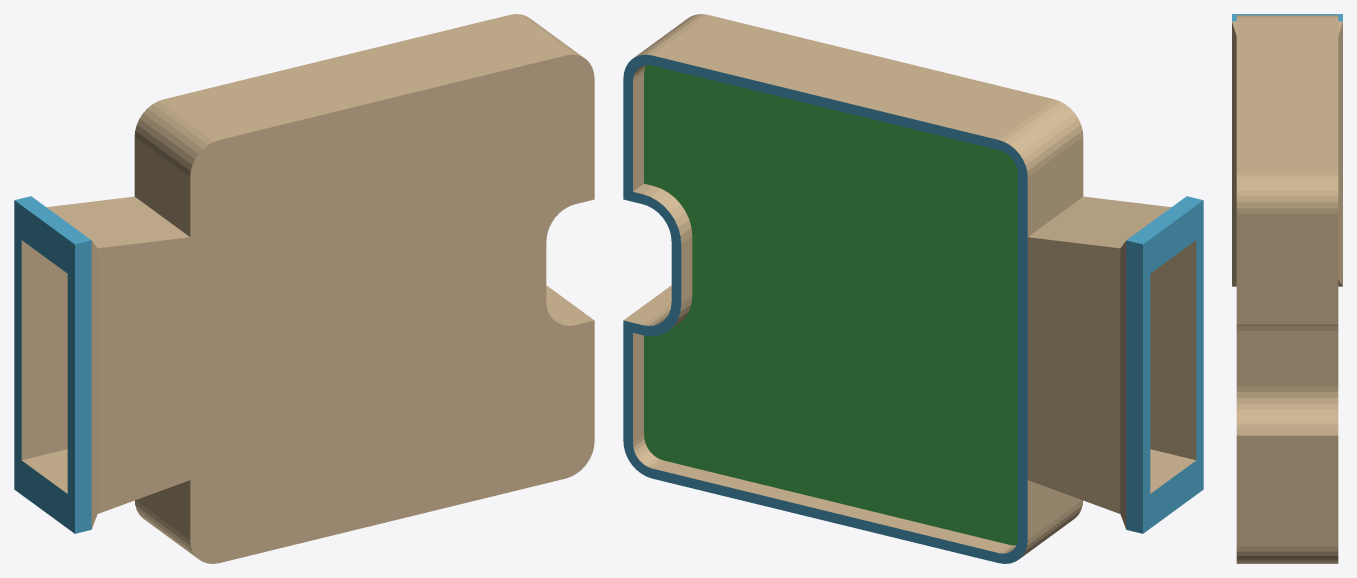
File: dispenser-FBX.fbx
3 views of the same model, side by side, from view 1: azimuth 30°, elevation 25°; view 2: azimuth 150°, elevation 25°; view 3: azimuth 270°, elevation 25° (orthographic). The views are drawn at different scales.
Parts seen in each view (by area): view 1: bcube-Cli.W; view 2: bcube-Cli.W; view 3: bcube-Cli.W.
Boxes of the visible parts, box(x1,y1,x2,y2) form: bcube-Cli.W: box(14, 14, 594, 563); bcube-Cli.W: box(623, 14, 1203, 563); bcube-Cli.W: box(1232, 14, 1342, 563).
Size of the model in its own units: 29828 by 23100 by 5990.
